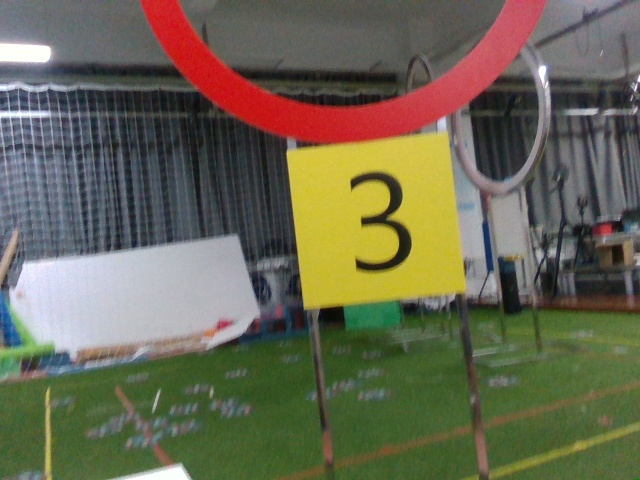target: (292, 148, 459, 298)
